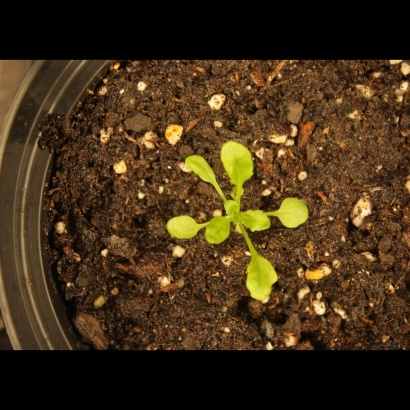leaf: (240, 251, 289, 309), (216, 139, 264, 191), (158, 213, 205, 245), (182, 149, 217, 189), (277, 194, 315, 229), (203, 214, 230, 247), (241, 207, 272, 235), (223, 201, 246, 224), (226, 181, 249, 204)
